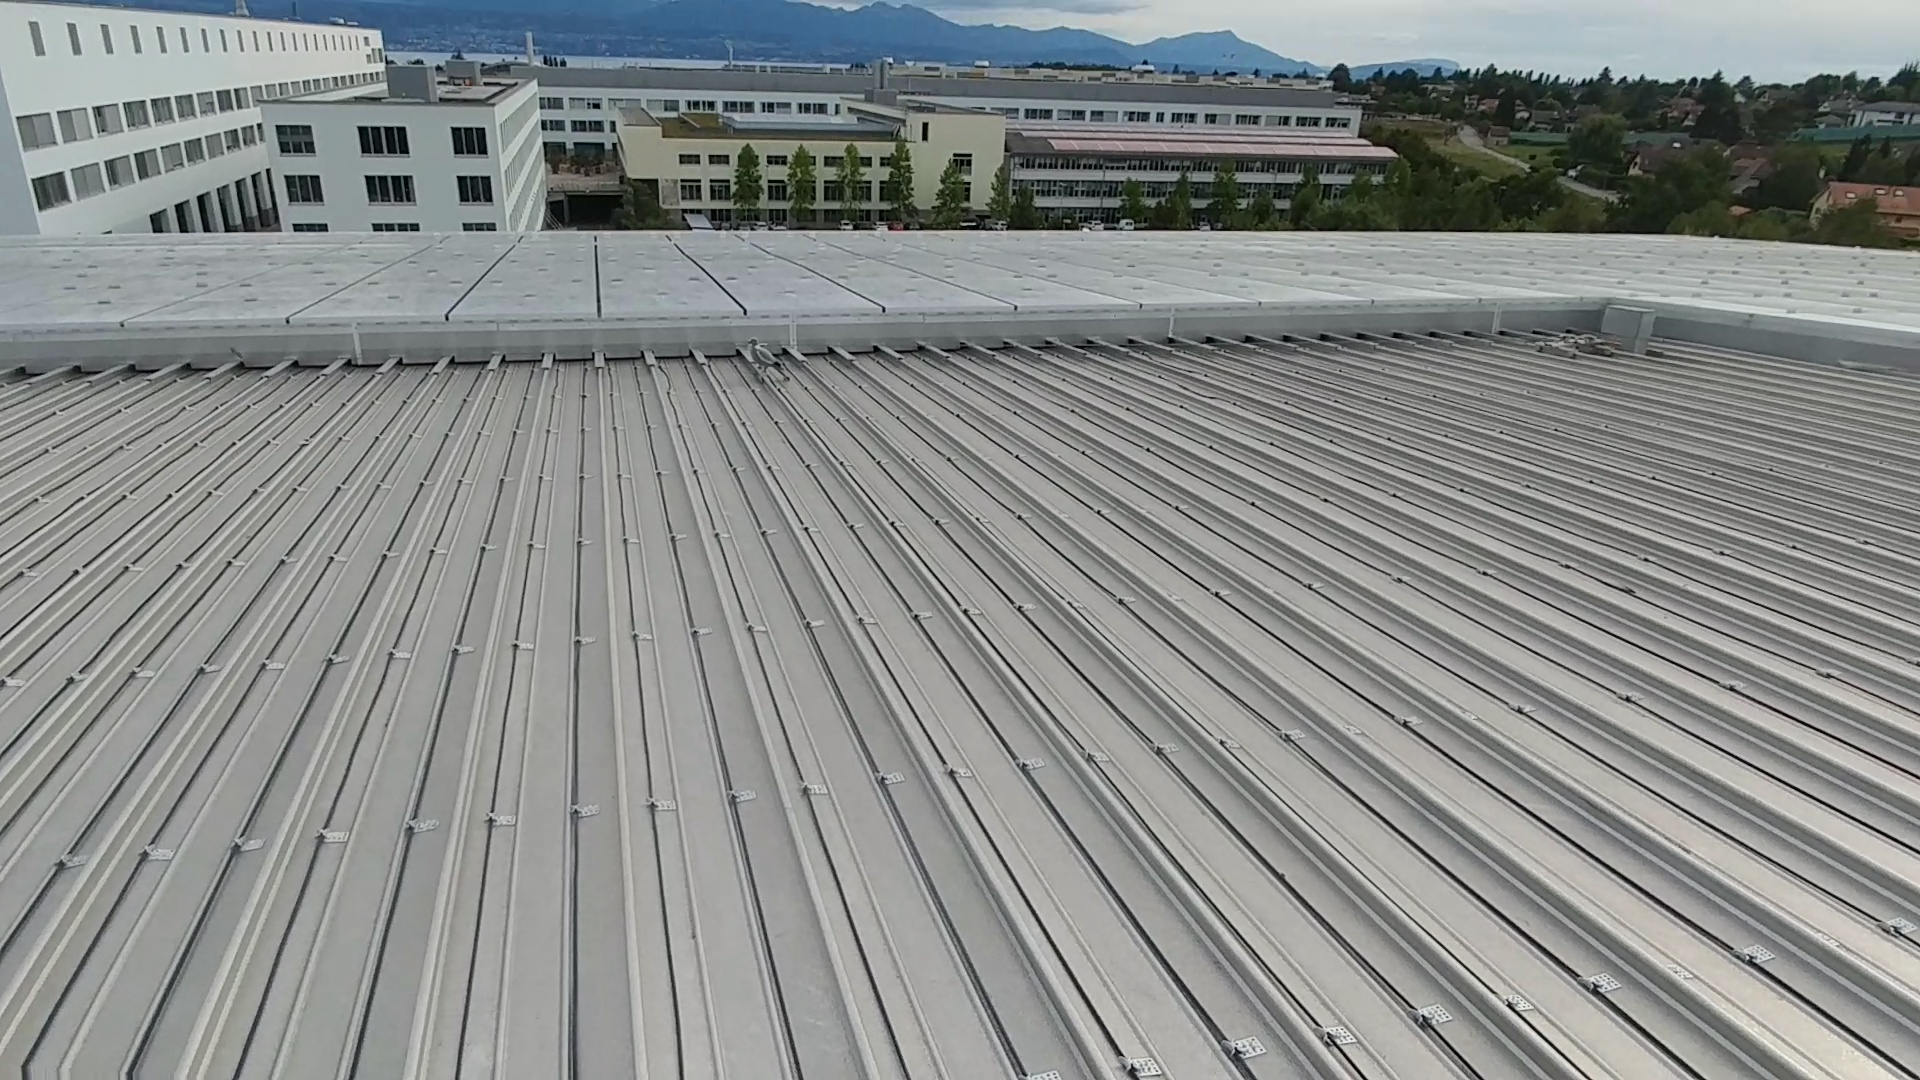Pigeon: (737, 334, 799, 385)
